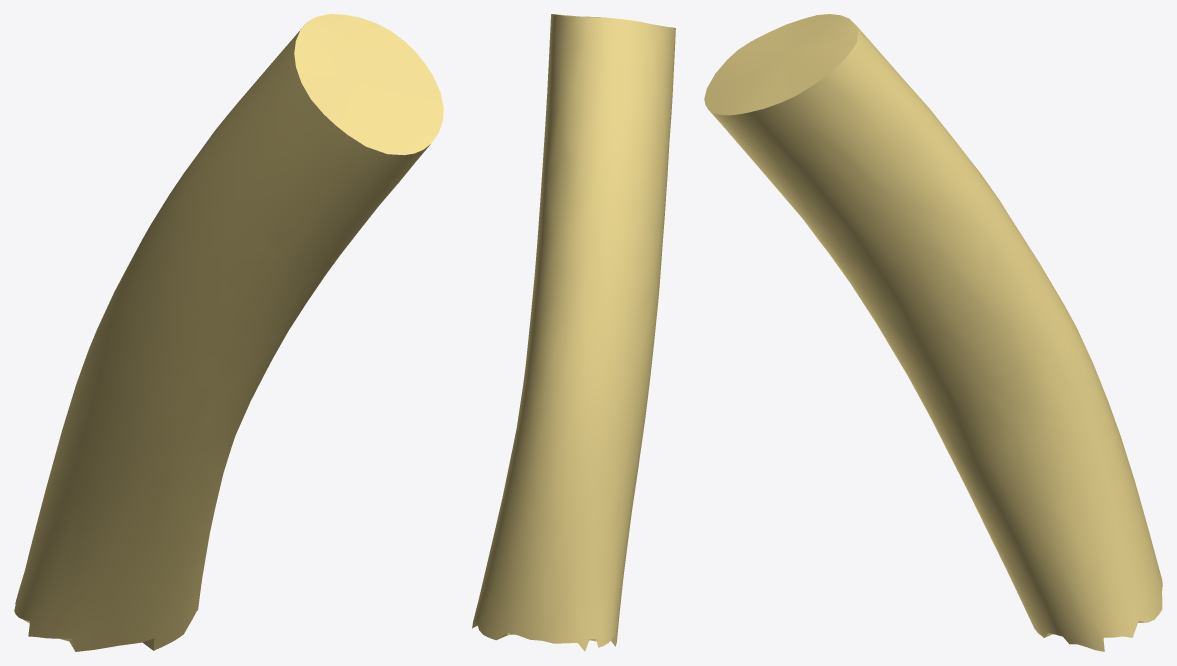
Rendered from fma73816_mm3520.glb.
The picture shows the model from 3 angles, left to right: view 1: azimuth 30°, elevation 25°; view 2: azimuth 150°, elevation 25°; view 3: azimuth 270°, elevation 25°; orthographic projection. The views are drawn at different scales.
Parts seen in each view (by area): view 1: FMA73816_MM3520; view 2: FMA73816_MM3520; view 3: FMA73816_MM3520.
Part boxes in pixels (x1=…): FMA73816_MM3520: x1=14, y1=14, x2=443, y2=651; FMA73816_MM3520: x1=472, y1=14, x2=675, y2=651; FMA73816_MM3520: x1=704, y1=14, x2=1162, y2=651.
Bounding box in the file's own units: 0.0033 × 0.00919 × 0.00606.
